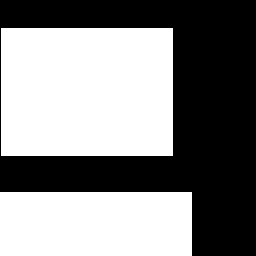rumex: (1, 28, 172, 155), (0, 192, 191, 256)
